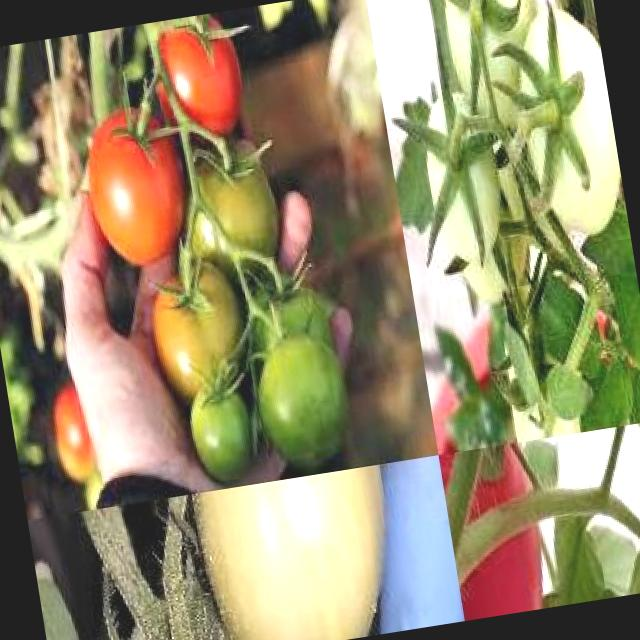Fresh_Tomato: (438, 435, 590, 621), (77, 90, 192, 270), (142, 13, 272, 161), (438, 442, 546, 611), (143, 250, 249, 396), (45, 382, 102, 482)
